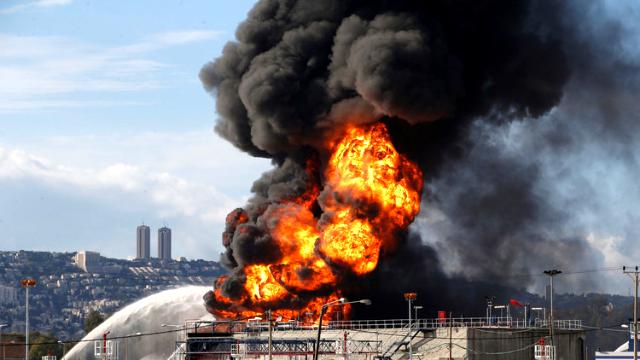fire: (204, 118, 426, 328)
